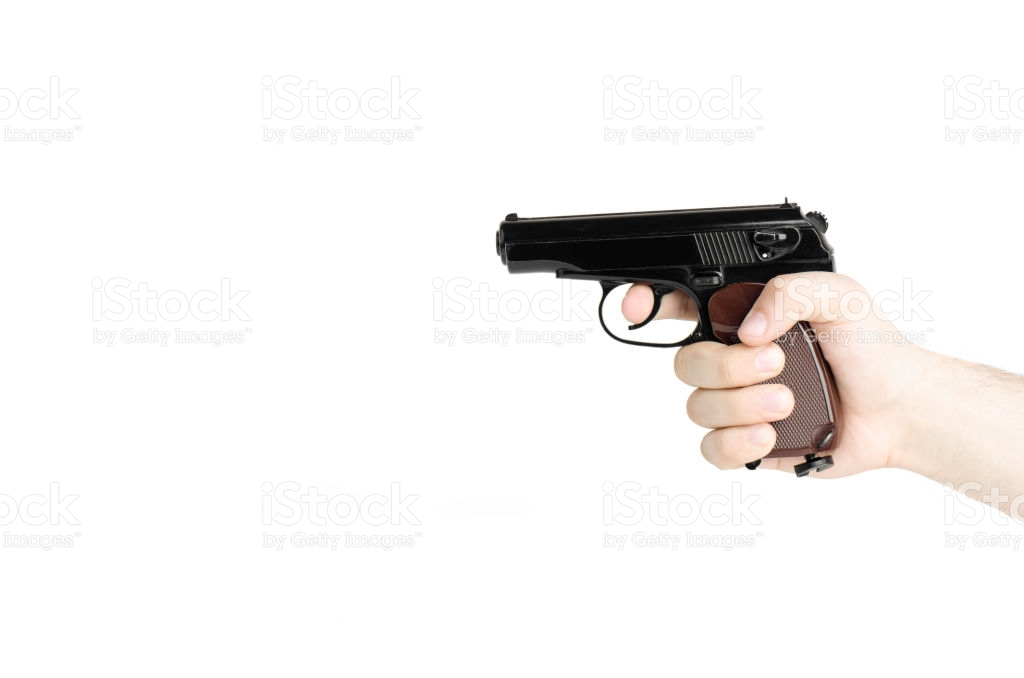pistol: (447, 138, 949, 540)
